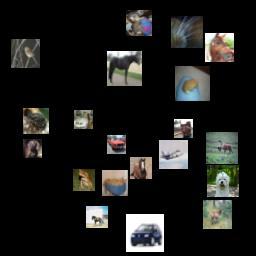airplane: (159, 140, 188, 169)
automobile: (126, 214, 164, 252), (107, 135, 126, 154), (74, 110, 93, 129)
bird: (11, 39, 40, 68)
cat: (171, 16, 203, 48), (126, 10, 152, 36), (102, 170, 128, 196)
deer: (206, 132, 238, 164), (203, 200, 232, 229)
dog: (207, 165, 239, 197), (23, 139, 42, 158)
frog: (175, 66, 210, 101), (23, 108, 49, 134), (73, 169, 95, 191)
truck: (174, 119, 193, 138)
